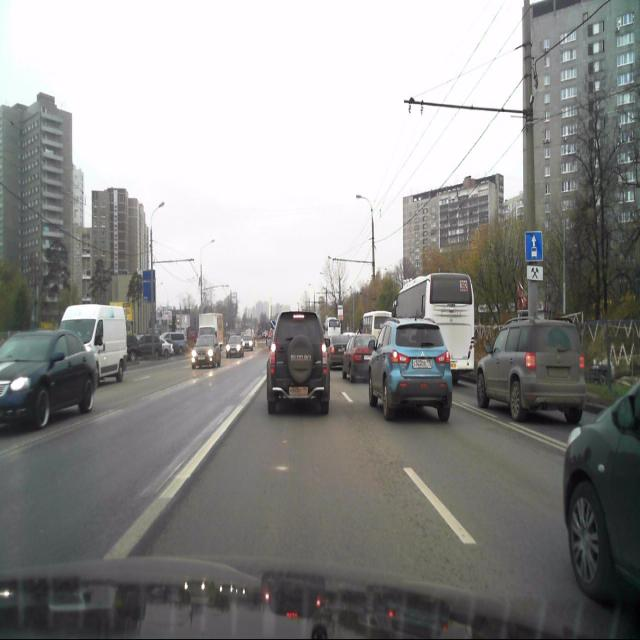road sign: (525, 231, 542, 260)
